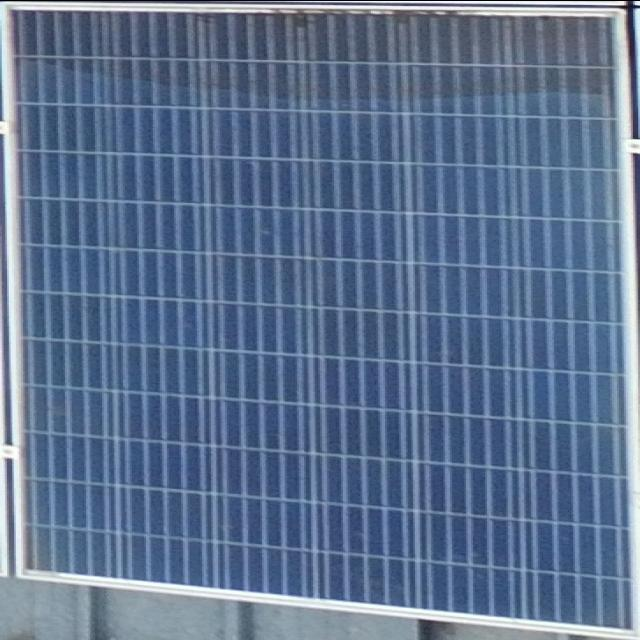Dust: (10, 4, 640, 111)
